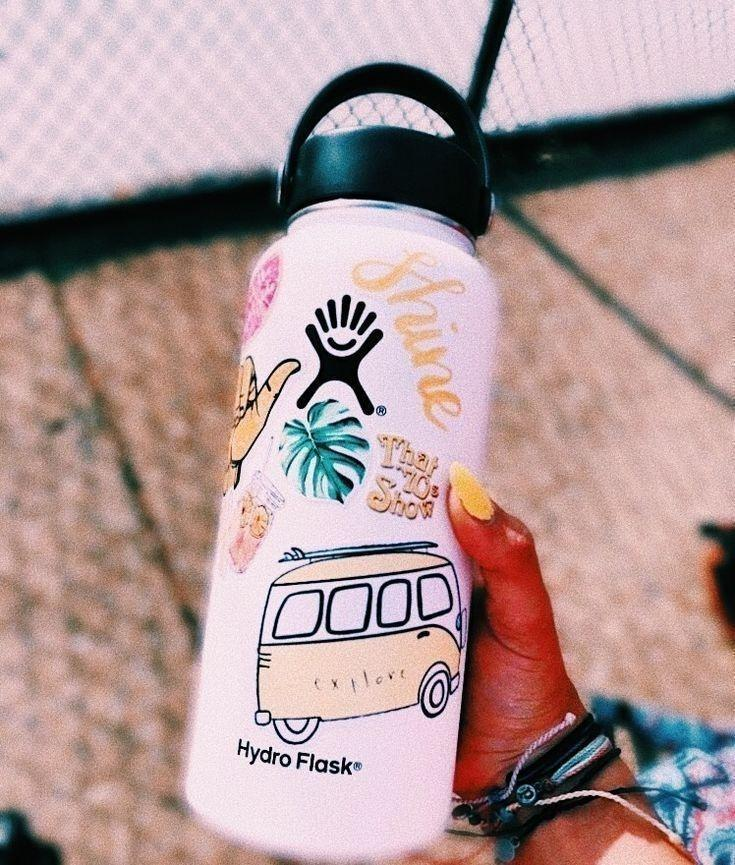gym bottle: (187, 56, 492, 852)
